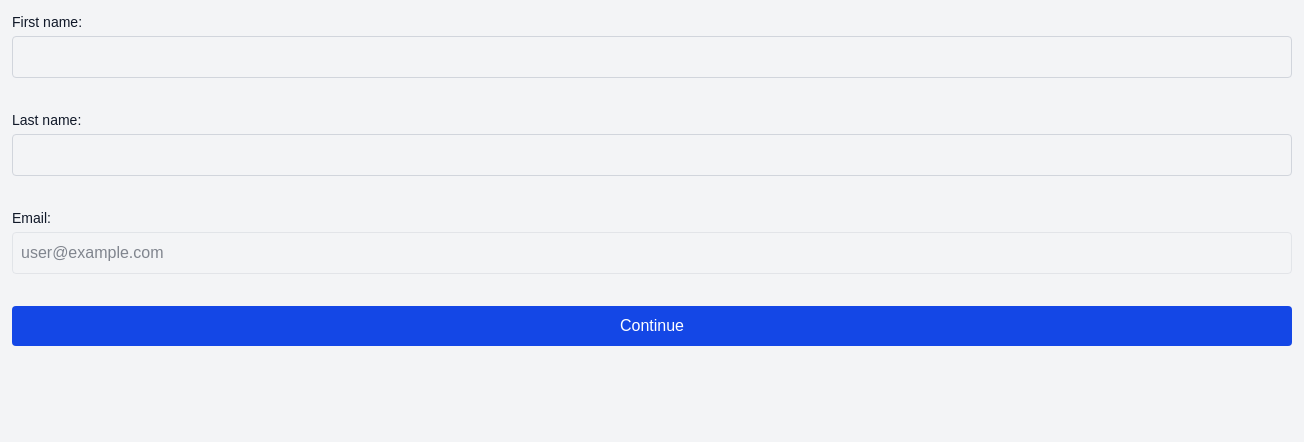
Test: CompleteSignUpForm › errors › shows an error when session refresh returns not ok
Type "Jane" into the field labelled "First name:" at (652, 57), box [12,36,1292,78]
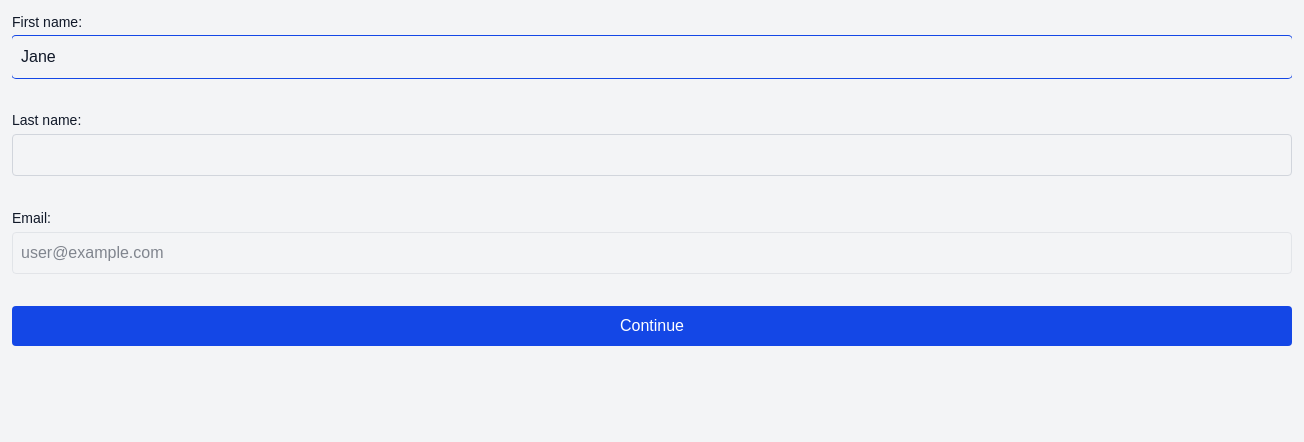
Type "Doe" into the field labelled "Last name:" at (652, 155), box [12,134,1292,176]
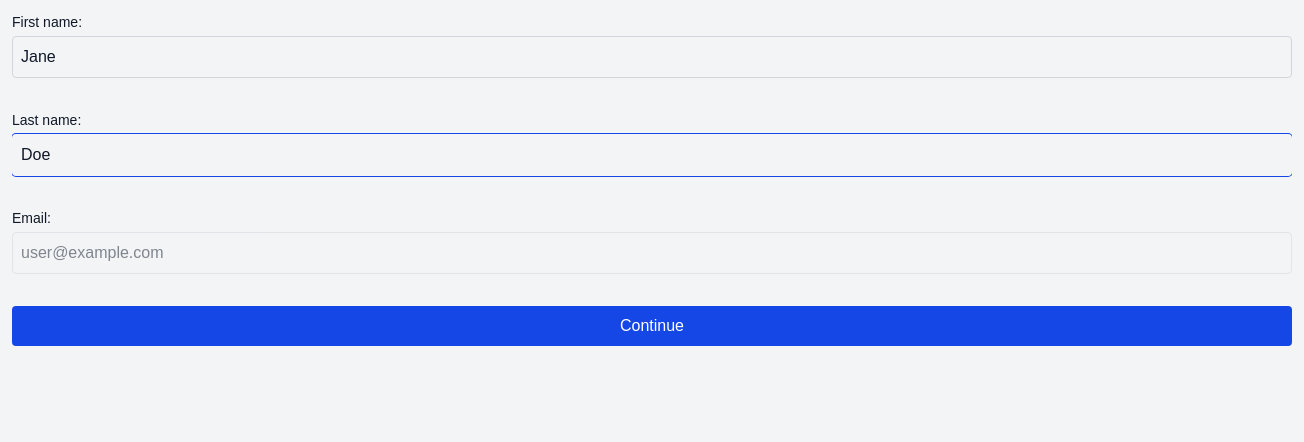
Click the button "Continue" at (652, 326), box [12,306,1292,346]
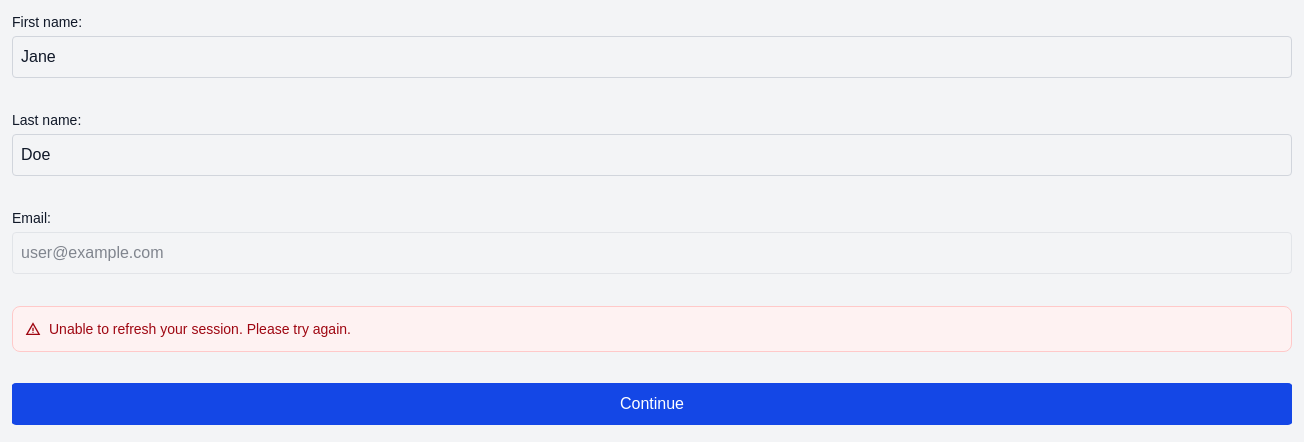
Expected: the text "Unable to refresh your session. Please try again." is shown, [25,321,351,337]
